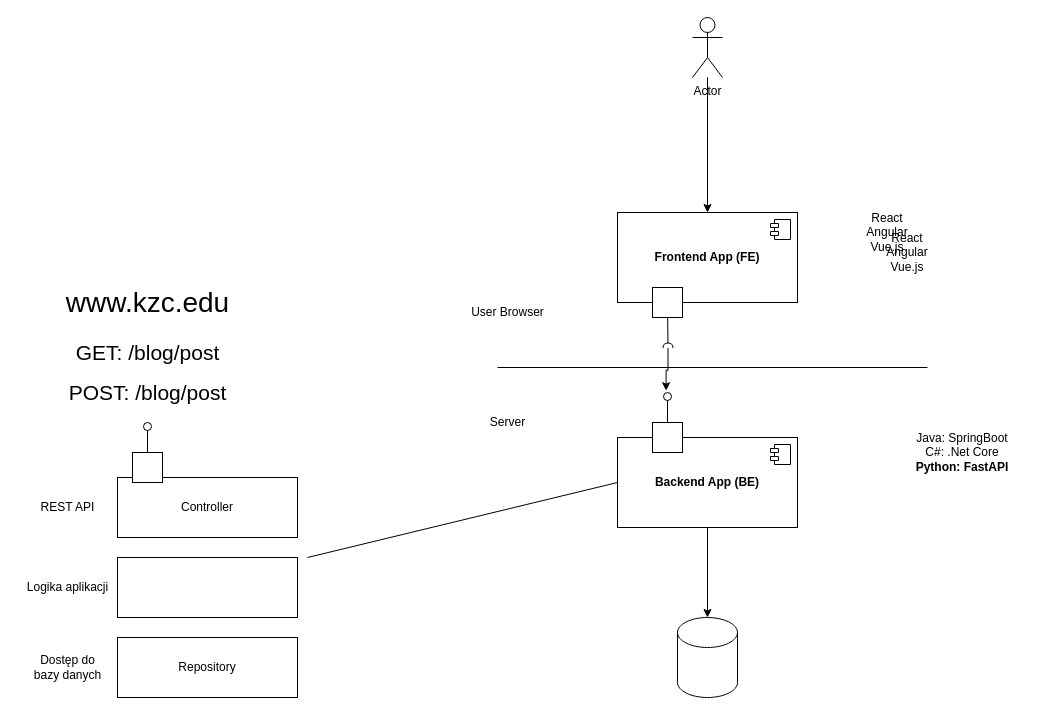
The diagram is 1054 pixels wide and 715 high, and some of its shapes have lost their labels. Here are the shapes that lost their labels. From the top down, the centre of each, then its label:
At pixel 207 587: "Serivce".
At pixel 707 657: "DB".
